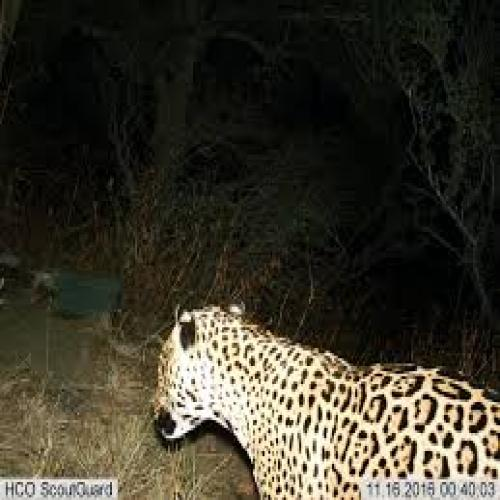jaguar_not-endangered: (150, 299, 500, 500)
